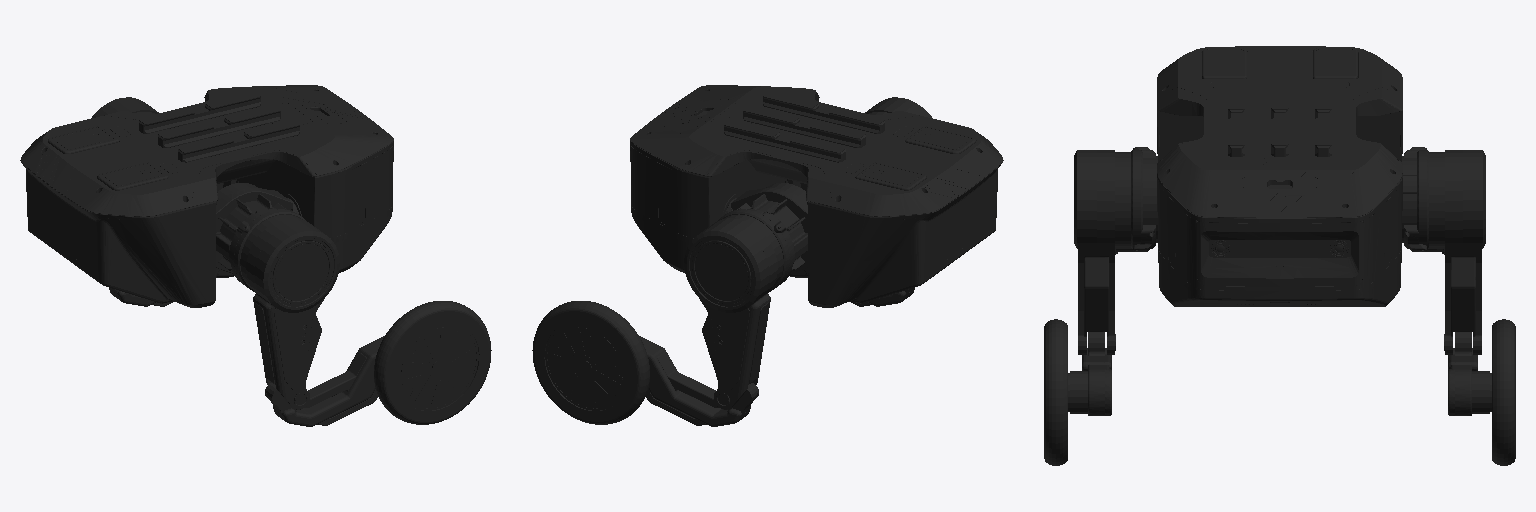
The robot description file, URDF, robot "tita":
<?xml version="1.0" ?>
<!-- =================================================================================== -->
<!-- |    This document was autogenerated by xacro from tita.urdf.xacro                | -->
<!-- |    EDITING THIS FILE BY HAND IS NOT RECOMMENDED                                 | -->
<!-- =================================================================================== -->
<robot name="tita">
  <material name="black">
    <color rgba="0.19607843137254902 0.19607843137254902 0.19607843137254902 1.0"/>
  </material>
  <material name="blue">
    <color rgba="0.0 0.0 0.8 1.0"/>
  </material>
  <material name="green">
    <color rgba="0.0 0.8 0.0 1.0"/>
  </material>
  <material name="grey">
    <color rgba="0.2 0.2 0.2 1.0"/>
  </material>
  <material name="silver">
    <color rgba="0.9137254901960784 0.9137254901960784 0.8470588235294118 1.0"/>
  </material>
  <material name="orange">
    <color rgba="1.0 0.4235294117647059 0.0392156862745098 1.0"/>
  </material>
  <material name="brown">
    <color rgba="0.8705882352941177 0.8117647058823529 0.7647058823529411 1.0"/>
  </material>
  <material name="red">
    <color rgba="0.8 0.0 0.0 1.0"/>
  </material>
  <material name="white">
    <color rgba="1.0 1.0 1.0 1.0"/>
  </material>

  <link name="base">
    <visual>
        <origin rpy="0 0 0" xyz="0 0 0"/>
        <geometry>
            <box size="0.001 0.001 0.001"/> <!-- 很小的虚拟几何体 -->
        </geometry>
    </visual>
</link>

<joint name="floating_base" type="fixed">
    <origin rpy="0 0 0" xyz="0 0 0"/>
    <parent link="base"/>
    <child link="trunk"/>
</joint>


  <link name="trunk">
    <inertial>
      <origin rpy="0 0 0" xyz="0.020452 3.5457E-06 0.01871"/>
      <mass value="13.2"/>
      <inertia ixx="0.061855" ixy="-2.6029E-05" ixz="0.00081082" iyy="0.036934" iyz="-1.7269E-05" izz="0.071232"/>
    </inertial>
    <visual>
      <origin rpy="0 0 0" xyz="0 0 0"/>
      <geometry>
        <mesh filename="package://tita_description/meshes/base_link.STL"/>
      </geometry>
      <material name="black"/>
    </visual>
    <collision>
      <origin rpy="0 0 0" xyz="0 0 0.017"/>
      <geometry>
        <box size="0.47 0.3 0.19"/>
      </geometry>
    </collision>
  </link>
  <link name="spad_link">
    </link>
  <joint name="spad_joint" type="fixed">
    <origin rpy="2.199 0 1.5708" xyz="0.24052 -0.0019 0.064455"/>
    <parent link="trunk"/>
    <child link="spad_link"/>
    <axis xyz="0 0 0"/>
  </joint>
  <link name="spad1_link">
    </link>
  <joint name="spad1_joint" type="fixed">
    <origin rpy="2.632 0 1.5708" xyz="0.21953 -0.0019 -0.030142"/>
    <parent link="trunk"/>
    <child link="spad1_link"/>
    <axis xyz="0 0 0"/>
  </joint>
  <link name="left_camera_link">
    </link>
  <joint name="left_camera_joint" type="fixed">
    <origin rpy="1.5708 0 1.5708" xyz="0.23416 0.075 0.04036"/>
    <parent link="trunk"/>
    <child link="left_camera_link"/>
    <axis xyz="0 0 0"/>
  </joint>
  <link name="ch201_link">
    </link>
  <joint name="ch201_joint" type="fixed">
    <origin rpy="1.1693 0 1.5708" xyz="0.23782 0 0.018636"/>
    <parent link="trunk"/>
    <child link="ch201_link"/>
    <axis xyz="0 0 0"/>
  </joint>
  <link name="right_camara_link">
    </link>
  <joint name="right_camera_joint" type="fixed">
    <origin rpy="1.5708 0 1.5708" xyz="0.23416 -0.075001 0.04036"/>
    <parent link="trunk"/>
    <child link="right_camara_link"/>
    <axis xyz="0 0 0"/>
  </joint>
  <joint name="imu_joint" type="fixed">
    <parent link="trunk"/>
    <child link="imu_link"/>
    <origin rpy="0 0 0" xyz="0 0 0"/>
  </joint>
  <link name="imu_link">
    <inertial>
      <mass value="0.001"/>
      <origin rpy="0 0 0" xyz="0 0 0"/>
      <inertia ixx="0.0001" ixy="0" ixz="0" iyy="0.0001" iyz="0" izz="0.0001"/>
    </inertial>
    <visual>
      <origin rpy="0 0 0" xyz="0 0 0"/>
      <geometry>
        <box size="0.001 0.001 0.001"/>
      </geometry>
      <material name="red"/>
    </visual>
    <collision>
      <origin rpy="0 0 0" xyz="0 0 0"/>
      <geometry>
        <box size=".001 .001 .001"/>
      </geometry>
    </collision>
  </link>
  <link name="left_leg_1">
    <inertial>
      <origin rpy="0 0 0" xyz="0.0016025 5.0253E-05 0.000638"/>
      <mass value="2.064"/>
      <inertia ixx="0.0043044" ixy="-1.3538E-07" ixz="8.054E-05" iyy="0.0029982" iyz="-1.5446E-06" izz="0.0022703"/>
    </inertial>
    <visual>
      <origin rpy="0 0 0" xyz="0 0 0"/>
      <geometry>
        <mesh filename="package://tita_description/meshes/left_leg_1.STL"/>
      </geometry>
      <material name="black"/>
    </visual>
  </link>
  <joint name="joint_left_leg_1" type="revolute">
    <origin rpy="1.5708 0 1.5708" xyz="0 0.0895 0"/>
    <parent link="trunk"/>
    <child link="left_leg_1"/>
    <axis xyz="0 0 1"/>
    <limit effort="60" lower="-0.785398" upper="0.785398" velocity="100"/>
  </joint>
  <link name="left_leg_2">
    <inertial>
      <origin rpy="0 0 0" xyz="0.021763 0.0019069 -0.027868"/>
      <mass value="3.0984"/>
      <inertia ixx="0.0029784" ixy="-9.6332E-05" ixz="7.878E-05" iyy="0.0064836" iyz="4.3691E-06" izz="0.0088353"/>
    </inertial>
    <visual>
      <origin rpy="0 0 0" xyz="0 0 0"/>
      <geometry>
        <mesh filename="package://tita_description/meshes/left_leg_2.STL"/>
      </geometry>
      <material name="black"/>
    </visual>
  </link>
  <joint name="joint_left_leg_2" type="revolute">
    <origin rpy="-1.5708 0 -1.5708" xyz="0.1426 0 0"/>
    <parent link="left_leg_1"/>
    <child link="left_leg_2"/>
    <axis xyz="0 0 1"/>
    <limit effort="60" lower="-1.919862" upper="3.490659" velocity="100"/>
  </joint>
  <link name="left_leg_3">
    <inertial>
      <origin rpy="0 0 0" xyz="0.095348 0.011698 0.001838"/>
      <mass value="0.57244"/>
      <inertia ixx="0.00030595" ixy="0.00035537" ixz="-0.00011764" iyy="0.0032009" iyz="1.129E-05" izz="0.0034209"/>
    </inertial>
    <visual>
      <origin rpy="0 0 0" xyz="0 0 0"/>
      <geometry>
        <mesh filename="package://tita_description/meshes/left_leg_3.STL"/>
      </geometry>
      <material name="black"/>
    </visual>
    <collision>
      <origin rpy="0 0 -0.131" xyz="0.1 0.021 -0.002"/>
      <geometry>
        <box size="0.2 0.07 0.05"/>
      </geometry>
    </collision>
  </link>
  <joint name="joint_left_leg_3" type="revolute">
    <origin rpy="0 0 0" xyz="0.2 0 0"/>
    <parent link="left_leg_2"/>
    <child link="left_leg_3"/>
    <axis xyz="0 0 1"/>
    <limit effort="60" lower="-2.670354" upper="-0.698132" velocity="100"/>
  </joint>
  <link name="left_leg_4">
    <inertial>
      <origin rpy="0 0 0" xyz="-2.267E-06 -1.6471E-06 -0.00095616"/>
      <mass value="1.5094"/>
      <inertia ixx="0.0035466" ixy="6.9816E-06" ixz="-2.3224E-07" iyy="0.0035053" iyz="-1.7712E-08" izz="0.0069049"/>
    </inertial>
    <visual>
      <origin rpy="0 0 0" xyz="0 0 0"/>
      <geometry>
        <mesh filename="package://tita_description/meshes/left_leg_4.STL"/>
      </geometry>
      <material name="black"/>
    </visual>
    <collision>
      <origin rpy="0 0 0" xyz="0 0 0"/>
      <geometry>
        <cylinder length="0.034" radius="0.0925"/>
      </geometry>
    </collision>
  </link>
  <joint name="joint_left_leg_4" type="revolute">
    <origin rpy="0 0 0" xyz="0.2 0 0.0514"/>
    <parent link="left_leg_3"/>
    <child link="left_leg_4"/>
    <axis xyz="0 0 1"/>
    <limit effort="15" lower="-6.283185e4" upper="6.283185e4" velocity="100"/>
  </joint>
  <link name="right_leg_1">
    <inertial>
      <origin rpy="0 0 0" xyz="-0.0016025 5.0253E-05 0.00063801"/>
      <mass value="2.064"/>
      <inertia ixx="0.0043044" ixy="1.3538E-07" ixz="-8.054E-05" iyy="0.0029982" iyz="-1.5359E-06" izz="0.0022703"/>
    </inertial>
    <visual>
      <origin rpy="0 0 0" xyz="0 0 0"/>
      <geometry>
        <mesh filename="package://tita_description/meshes/right_leg_1.STL"/>
      </geometry>
      <material name="black"/>
    </visual>
  </link>
  <joint name="joint_right_leg_1" type="revolute">
    <origin rpy="1.5708 0 1.5708" xyz="0 -0.0895 0"/>
    <parent link="trunk"/>
    <child link="right_leg_1"/>
    <axis xyz="0 0 1"/>
    <limit effort="60" lower="-0.785398" upper="0.785398" velocity="100"/>
  </joint>
  <link name="right_leg_2">
    <inertial>
      <origin rpy="0 0 0" xyz="0.021763 0.0019065 0.027873"/>
      <mass value="3.0987"/>
      <inertia ixx="0.0029784" ixy="-9.6347E-05" ixz="-7.8776E-05" iyy="0.0064836" iyz="-4.3711E-06" izz="0.0088353"/>
    </inertial>
    <visual>
      <origin rpy="0 0 0" xyz="0 0 0"/>
      <geometry>
        <mesh filename="package://tita_description/meshes/right_leg_2.STL"/>
      </geometry>
      <material name="black"/>
    </visual>
  </link>
  <joint name="joint_right_leg_2" type="revolute">
    <origin rpy="-1.5708 0 -1.5708" xyz="-0.1426 0 0"/>
    <parent link="right_leg_1"/>
    <child link="right_leg_2"/>
    <axis xyz="0 0 1"/>
    <limit effort="60" lower="-1.919862" upper="3.490659" velocity="100"/>
  </joint>
  <link name="right_leg_3">
    <inertial>
      <origin rpy="0 0 0" xyz="0.095348 0.011698 -0.001838"/>
      <mass value="0.57244"/>
      <inertia ixx="0.00030595" ixy="0.00035537" ixz="0.00011764" iyy="0.0032009" iyz="-1.129E-05" izz="0.0034209"/>
    </inertial>
    <visual>
      <origin rpy="0 0 0" xyz="0 0 0"/>
      <geometry>
        <mesh filename="package://tita_description/meshes/right_leg_3.STL"/>
      </geometry>
      <material name="black"/>
    </visual>
    <collision>
      <origin rpy="0 0 -0.131" xyz="0.1 0.021 -0.002"/>
      <geometry>
        <box size="0.2 0.07 0.05"/>
      </geometry>
    </collision>
  </link>
  <joint name="joint_right_leg_3" type="revolute">
    <origin rpy="0 0 0" xyz="0.2 0 0"/>
    <parent link="right_leg_2"/>
    <child link="right_leg_3"/>
    <axis xyz="0 0 1"/>
    <limit effort="60" lower="-2.670354" upper="-0.698132" velocity="100"/>
  </joint>
  <link name="right_leg_4">
    <inertial>
      <origin rpy="0 0 0" xyz="-2.3798E-06 -1.5854E-06 0.00095595"/>
      <mass value="1.5094"/>
      <inertia ixx="0.0035465" ixy="7.0548E-06" ixz="2.3146E-07" iyy="0.0035052" iyz="1.9287E-08" izz="0.0069047"/>
    </inertial>
    <visual>
      <origin rpy="0 0 0" xyz="0 0 0"/>
      <geometry>
        <mesh filename="package://tita_description/meshes/right_leg_4.STL"/>
      </geometry>
      <material name="black"/>
    </visual>
    <collision>
      <origin rpy="0 0 0" xyz="0 0 0"/>
      <geometry>
        <cylinder length="0.034" radius="0.0925"/>
      </geometry>
    </collision>
  </link>
  <joint name="joint_right_leg_4" type="revolute">
    <origin rpy="0 0 0" xyz="0.2 0 -0.0514"/>
    <parent link="right_leg_3"/>
    <child link="right_leg_4"/>
    <axis xyz="0 0 1"/>
    <limit effort="15" lower="-6.283185e4" upper="6.283185e4" velocity="20"/>
  </joint>



  <transmission name="L_hip_tran">
    <type>transmission_interface/SimpleTransmission</type>
    <joint name="joint_left_leg_1">
      <hardwareInterface>hardware_interface/EffortJointInterface</hardwareInterface>
    </joint>
    <actuator name="L_hip_motor">
      <hardwareInterface>hardware_interface/EffortJointInterface</hardwareInterface>
      <mechanicalReduction>1</mechanicalReduction>
    </actuator>
  </transmission>

  <transmission name="L_thigh_tran">
    <type>transmission_interface/SimpleTransmission</type>
    <joint name="joint_left_leg_2">
      <hardwareInterface>hardware_interface/EffortJointInterface</hardwareInterface>
    </joint>
    <actuator name="L_thigh_motor">
      <hardwareInterface>hardware_interface/EffortJointInterface</hardwareInterface>
      <mechanicalReduction>1</mechanicalReduction>
    </actuator>
  </transmission>


  <transmission name="L_calf_tran">
    <type>transmission_interface/SimpleTransmission</type>
    <joint name="joint_left_leg_3">
      <hardwareInterface>hardware_interface/EffortJointInterface</hardwareInterface>
    </joint>
    <actuator name="L_calf_motor">
      <hardwareInterface>hardware_interface/EffortJointInterface</hardwareInterface>
      <mechanicalReduction>1</mechanicalReduction>
    </actuator>
  </transmission>

  <transmission name="L_foot_tran">
    <type>transmission_interface/SimpleTransmission</type>
    <joint name="joint_left_leg_4">
      <hardwareInterface>hardware_interface/EffortJointInterface</hardwareInterface>
    </joint>
    <actuator name="L_foot_motor">
      <hardwareInterface>hardware_interface/EffortJointInterface</hardwareInterface>
      <mechanicalReduction>1</mechanicalReduction>
    </actuator>
  </transmission>

  <transmission name="R_hip_tran">
    <type>transmission_interface/SimpleTransmission</type>
    <joint name="joint_right_leg_1">
      <hardwareInterface>hardware_interface/EffortJointInterface</hardwareInterface>
    </joint>
    <actuator name="R_hip_motor">
      <hardwareInterface>hardware_interface/EffortJointInterface</hardwareInterface>
      <mechanicalReduction>1</mechanicalReduction>
    </actuator>
  </transmission>

  <transmission name="R_thigh_tran">
    <type>transmission_interface/SimpleTransmission</type>
    <joint name="joint_right_leg_2">
      <hardwareInterface>hardware_interface/EffortJointInterface</hardwareInterface>
    </joint>
    <actuator name="R_thigh_motor">
      <hardwareInterface>hardware_interface/EffortJointInterface</hardwareInterface>
      <mechanicalReduction>1</mechanicalReduction>
    </actuator>
  </transmission>

  <transmission name="R_calf_tran">
    <type>transmission_interface/SimpleTransmission</type>
    <joint name="joint_right_leg_3">
      <hardwareInterface>hardware_interface/EffortJointInterface</hardwareInterface>
    </joint>
    <actuator name="R_calf_motor">
      <hardwareInterface>hardware_interface/EffortJointInterface</hardwareInterface>
      <mechanicalReduction>1</mechanicalReduction>
    </actuator>
  </transmission>
  <transmission name="R_foot_tran">
    <type>transmission_interface/SimpleTransmission</type>
    <joint name="joint_right_leg_4">
      <hardwareInterface>hardware_interface/EffortJointInterface</hardwareInterface>
    </joint>
    <actuator name="R_foot_motor">
      <hardwareInterface>hardware_interface/EffortJointInterface</hardwareInterface>
      <mechanicalReduction>1</mechanicalReduction>
    </actuator>
  </transmission>

</robot>

--- What the picture shows (computed from the rendered views, not written in the file) ---
The picture shows the robot from 3 angles, left to right: view 1: azimuth 30°, elevation 25°; view 2: azimuth 150°, elevation 25°; view 3: azimuth 270°, elevation 25°; orthographic projection.
Robot: tita — 16 links, 15 joints (8 revolute, 7 fixed); root link base; default pose: joints at zero except 2 at the middle of their limits (joint_left_leg_3 = -1.68, joint_right_leg_3 = -1.68).
Visible links, largest first — view 1: trunk, right_leg_2, right_leg_4, right_leg_3, right_leg_1, left_leg_2; view 2: trunk, left_leg_2, left_leg_4, left_leg_3, left_leg_1, right_leg_2; view 3: trunk, left_leg_2, right_leg_2, left_leg_4, right_leg_4, left_leg_3, right_leg_3.
Boxes of the visible links, left/top/right/bottom form: trunk: left=20, top=85, right=393, bottom=307; right_leg_2: left=229, top=209, right=339, bottom=409; right_leg_4: left=374, top=301, right=491, bottom=424; right_leg_3: left=265, top=336, right=384, bottom=426; right_leg_1: left=216, top=183, right=298, bottom=273; left_leg_2: left=91, top=97, right=158, bottom=118; trunk: left=630, top=85, right=1003, bottom=307; left_leg_2: left=684, top=208, right=794, bottom=409; left_leg_4: left=532, top=301, right=649, bottom=424; left_leg_3: left=639, top=336, right=758, bottom=426; left_leg_1: left=725, top=183, right=807, bottom=273; right_leg_2: left=865, top=97, right=932, bottom=118; trunk: left=1157, top=46, right=1402, bottom=306; left_leg_2: left=1402, top=147, right=1485, bottom=354; right_leg_2: left=1074, top=147, right=1157, bottom=354; left_leg_4: left=1490, top=319, right=1515, bottom=465; right_leg_4: left=1044, top=319, right=1069, bottom=465; left_leg_3: left=1448, top=332, right=1489, bottom=415; right_leg_3: left=1070, top=332, right=1111, bottom=415.
Bounding box of the posed robot: 0.5502 × 0.5966 × 0.3967 m (x, y, z).
9 mesh visuals loaded from 9 distinct referenced files (9 binary STL).
